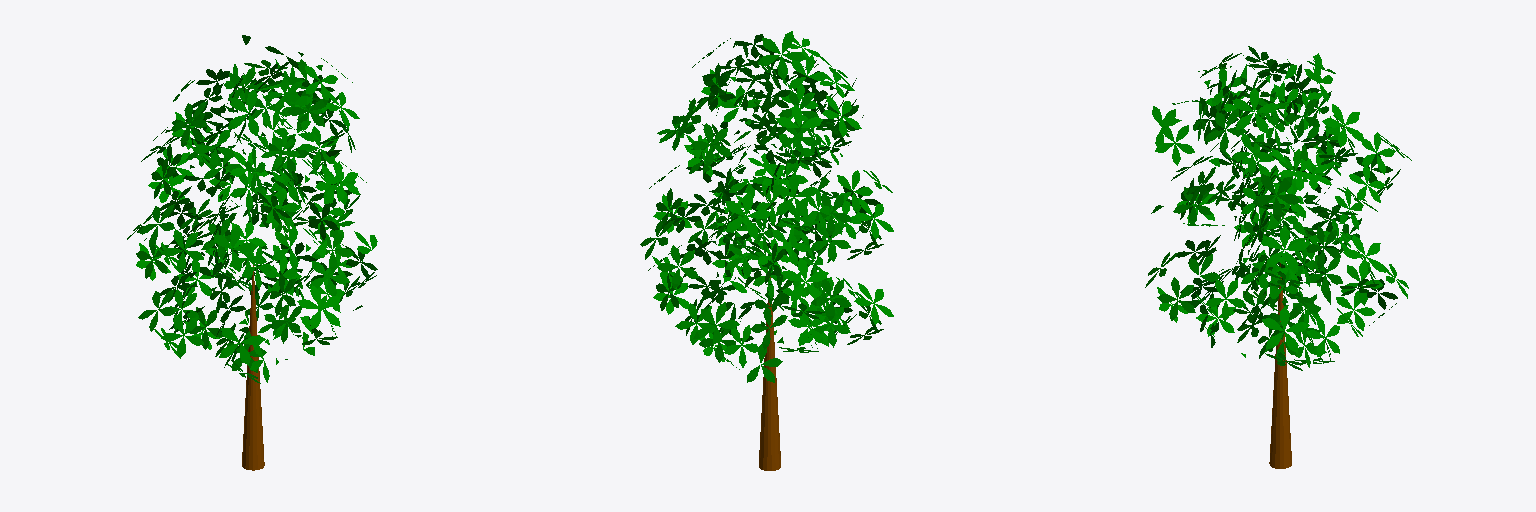
File: onetree.obj
3 renders of one model, left to right at view 1: azimuth 30°, elevation 25°; view 2: azimuth 150°, elevation 25°; view 3: azimuth 270°, elevation 25°, orthographic.
Parts seen in each view (by area): view 1: object_1, object_2; view 2: object_1, object_2; view 3: object_1, object_2.
Part boxes in pixels (left/top/right/bottom): object_1: left=127, top=35, right=377, bottom=383; object_2: left=242, top=265, right=264, bottom=470; object_1: left=640, top=31, right=893, bottom=382; object_2: left=759, top=277, right=780, bottom=470; object_1: left=1145, top=46, right=1411, bottom=370; object_2: left=1269, top=263, right=1291, bottom=468.
Size of the model in its own units: 0.4609 by 0.7969 by 0.4676.